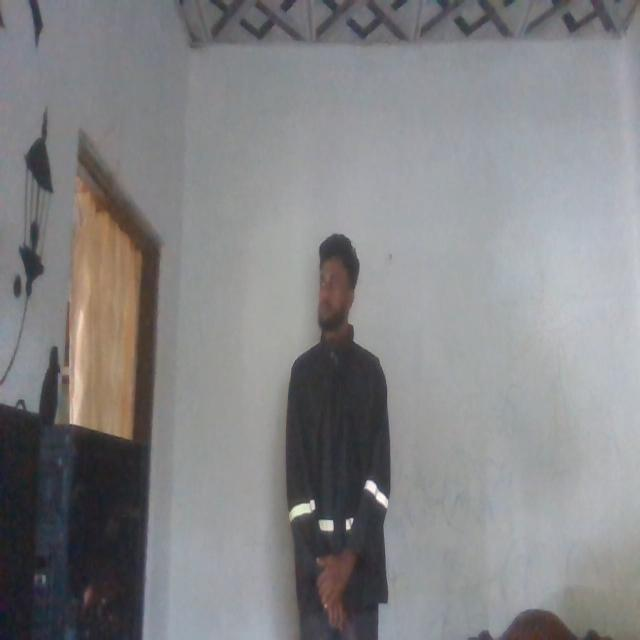Jacket_Wearer: (283, 331, 391, 599)
Person: (286, 238, 394, 640)
